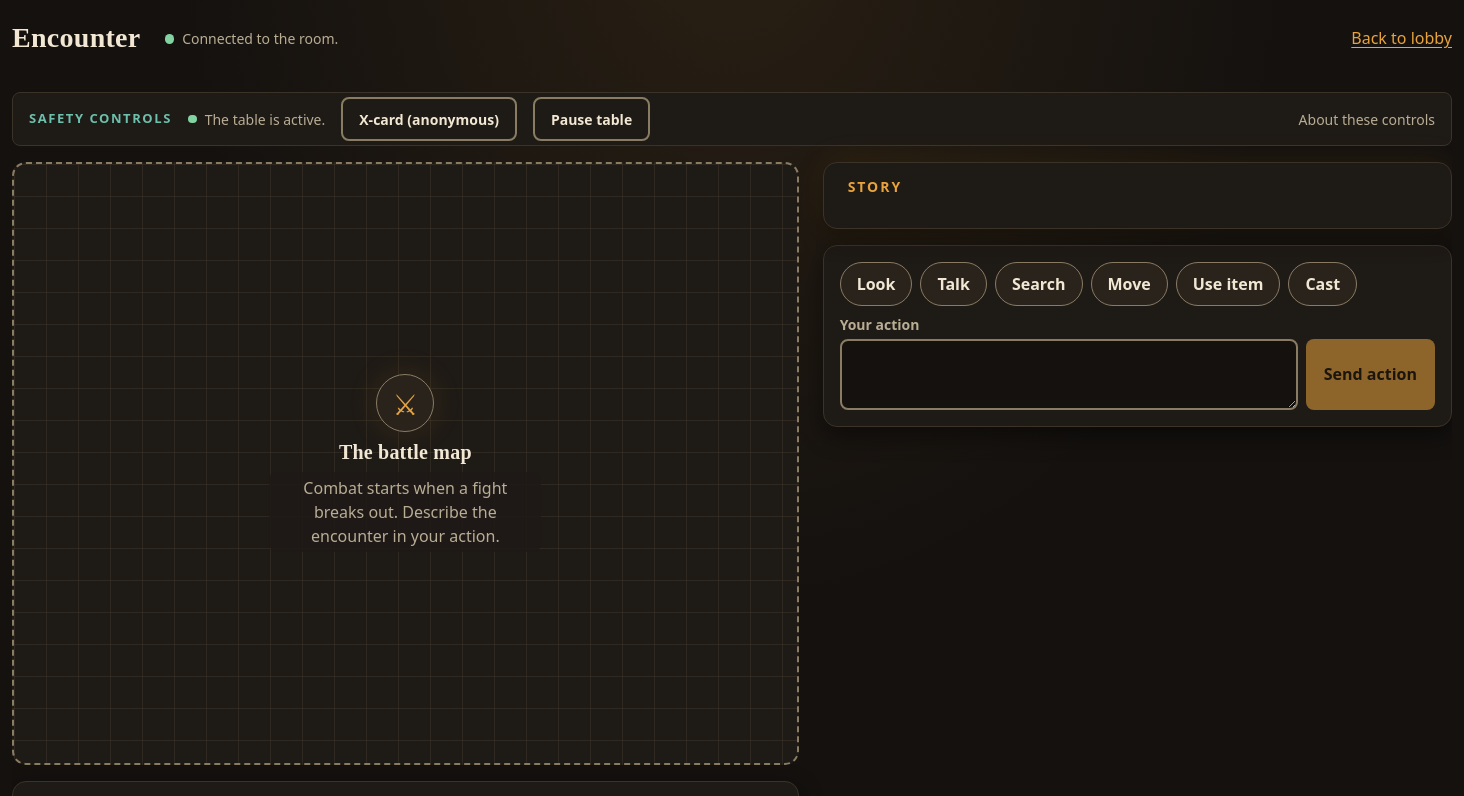
Game screen (live Room) › Retry while disconnected keeps the failed text so it can be resent later
Type "I search the room." into the text box labelled "Your action" at (1069, 374), box [840,339,1298,410]
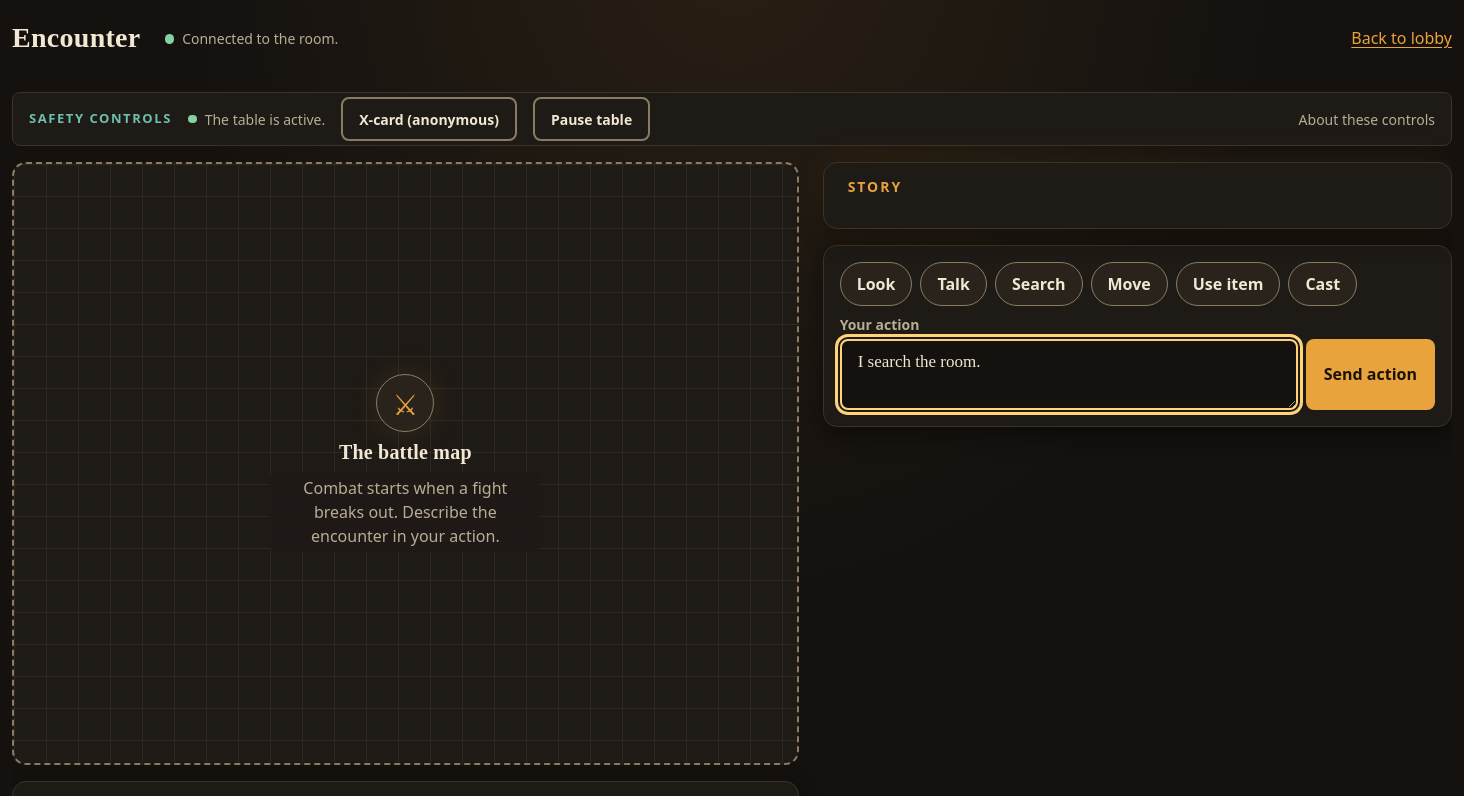
Click the button "Send action" at (1370, 374), box [1306,339,1435,410]
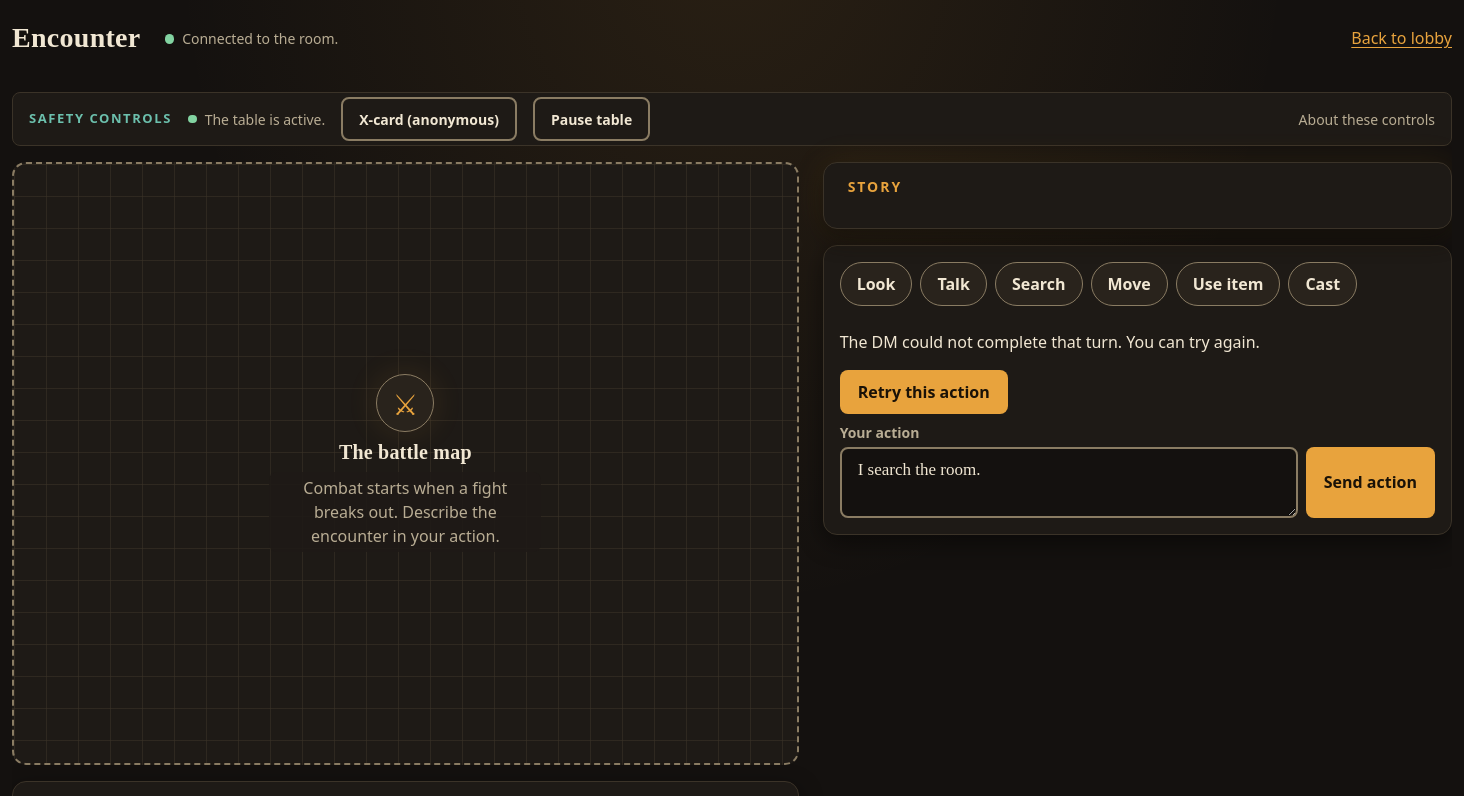
Click the button "Retry this action" at (924, 392), box [840,370,1008,414]
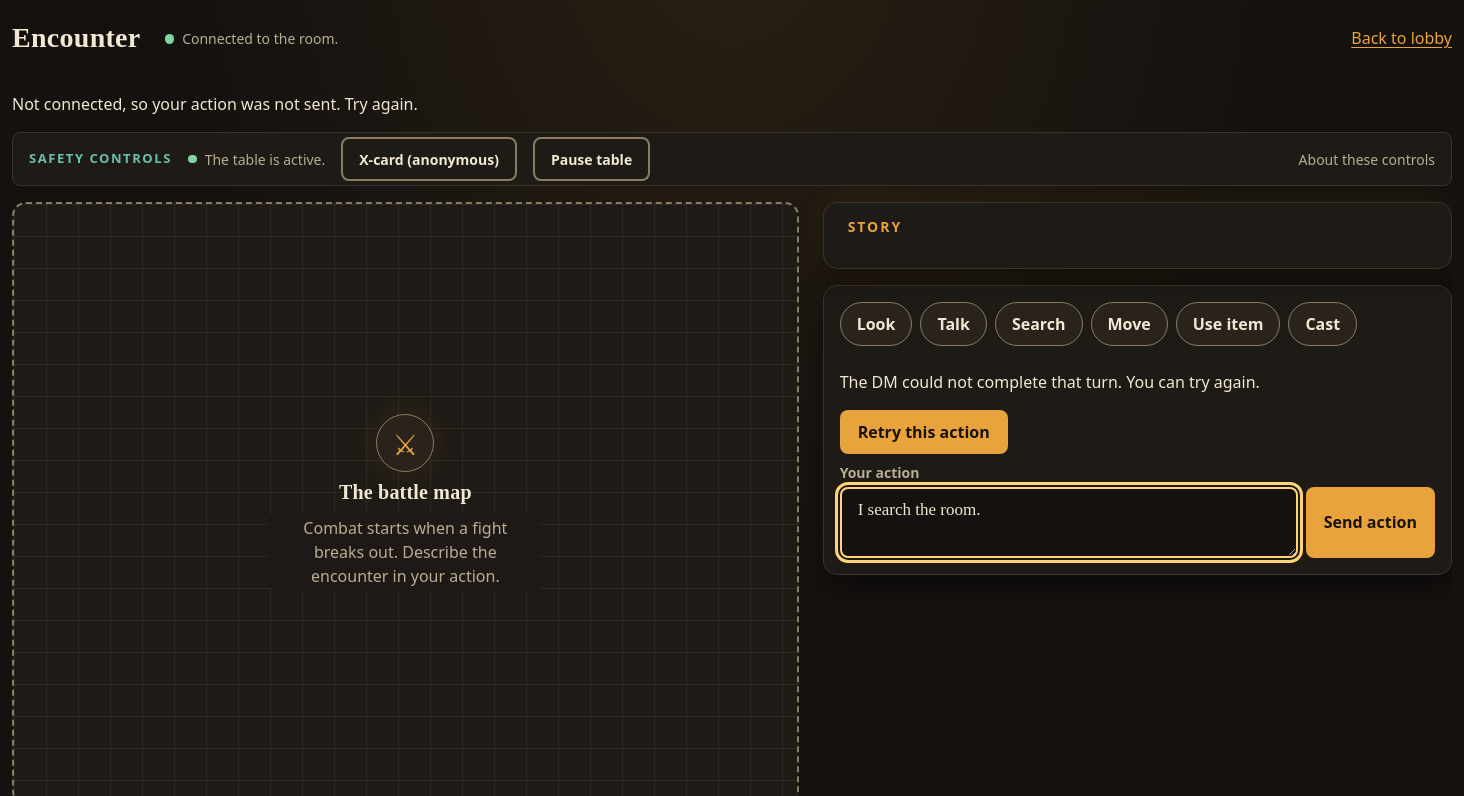
Now the button "Retry this action" is shown
Now the text "Not connected, so your action was not sent. Try again." is shown, box [12,93,418,115]
Click the button "Retry this action" at (924, 432), box [840,410,1008,454]
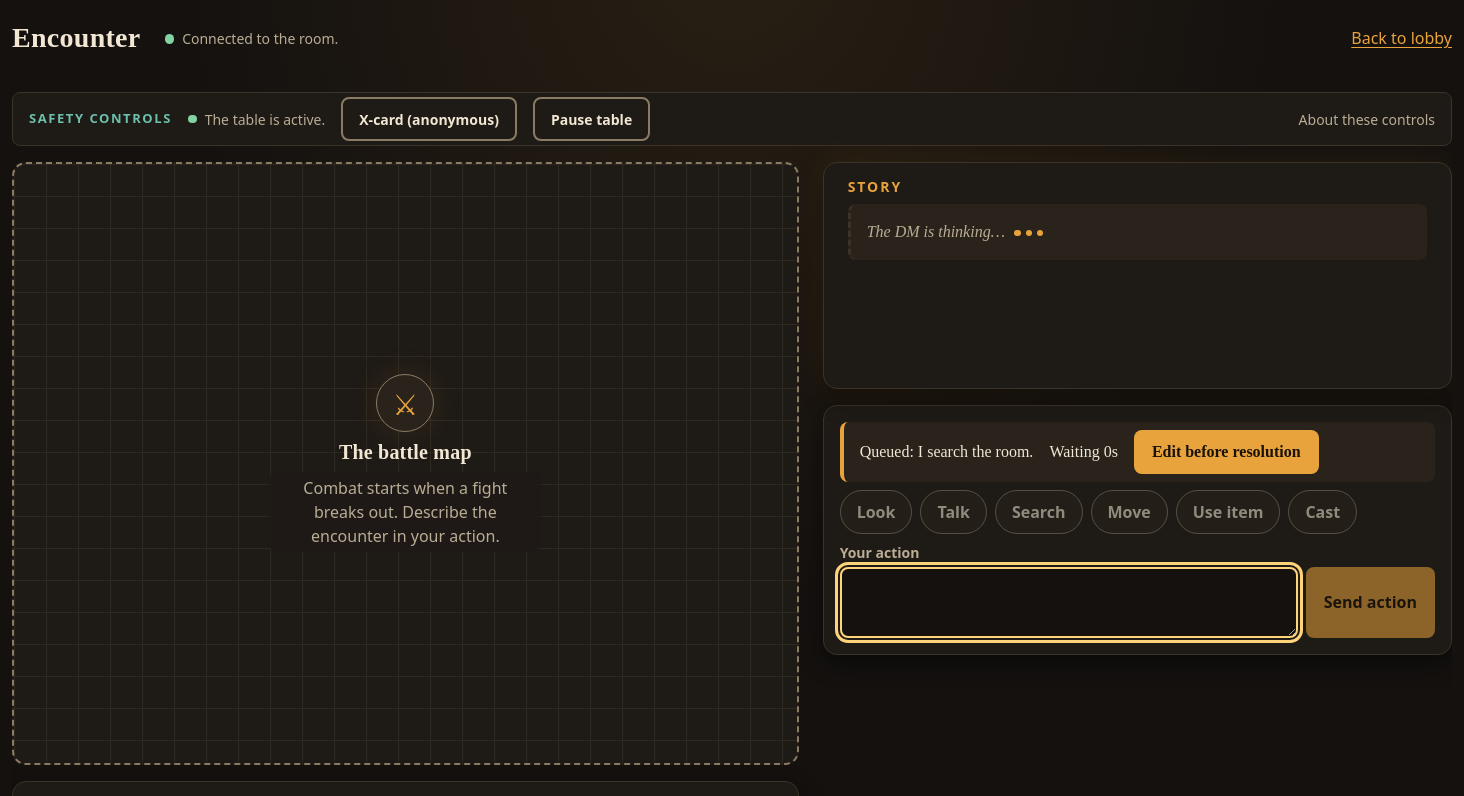
Now the text box labelled "Your action" is empty, box [840,567,1298,638]
Now the text "Queued: I search the room." is shown, box [860,440,1033,464]
